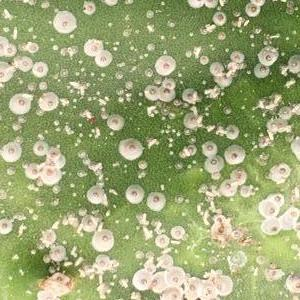Femea: (53, 14, 75, 32), (123, 139, 141, 158), (9, 96, 27, 114), (154, 55, 171, 74), (145, 191, 162, 208), (88, 187, 104, 204), (125, 184, 141, 200), (95, 232, 111, 248), (36, 95, 53, 110), (42, 166, 57, 183), (45, 145, 59, 162), (106, 117, 123, 130), (158, 86, 172, 101), (260, 49, 277, 61), (203, 157, 220, 169), (94, 51, 107, 66), (83, 219, 97, 232), (34, 139, 45, 155), (86, 43, 100, 55), (27, 166, 41, 178), (145, 85, 159, 97), (170, 226, 184, 238), (82, 2, 94, 15), (183, 90, 197, 101), (184, 142, 196, 154), (203, 143, 215, 155), (276, 164, 287, 177), (211, 12, 223, 23), (156, 235, 167, 247), (231, 52, 243, 61), (27, 43, 39, 52), (162, 81, 175, 89), (38, 81, 48, 91), (136, 160, 147, 169), (200, 55, 209, 64), (26, 82, 37, 89), (143, 69, 154, 76)
Linfa: (86, 124, 102, 138), (79, 66, 94, 78), (86, 89, 98, 102), (63, 123, 75, 136), (166, 134, 175, 149), (114, 95, 125, 104), (167, 150, 174, 156)
Macho: (7, 25, 19, 42), (168, 237, 181, 244)
